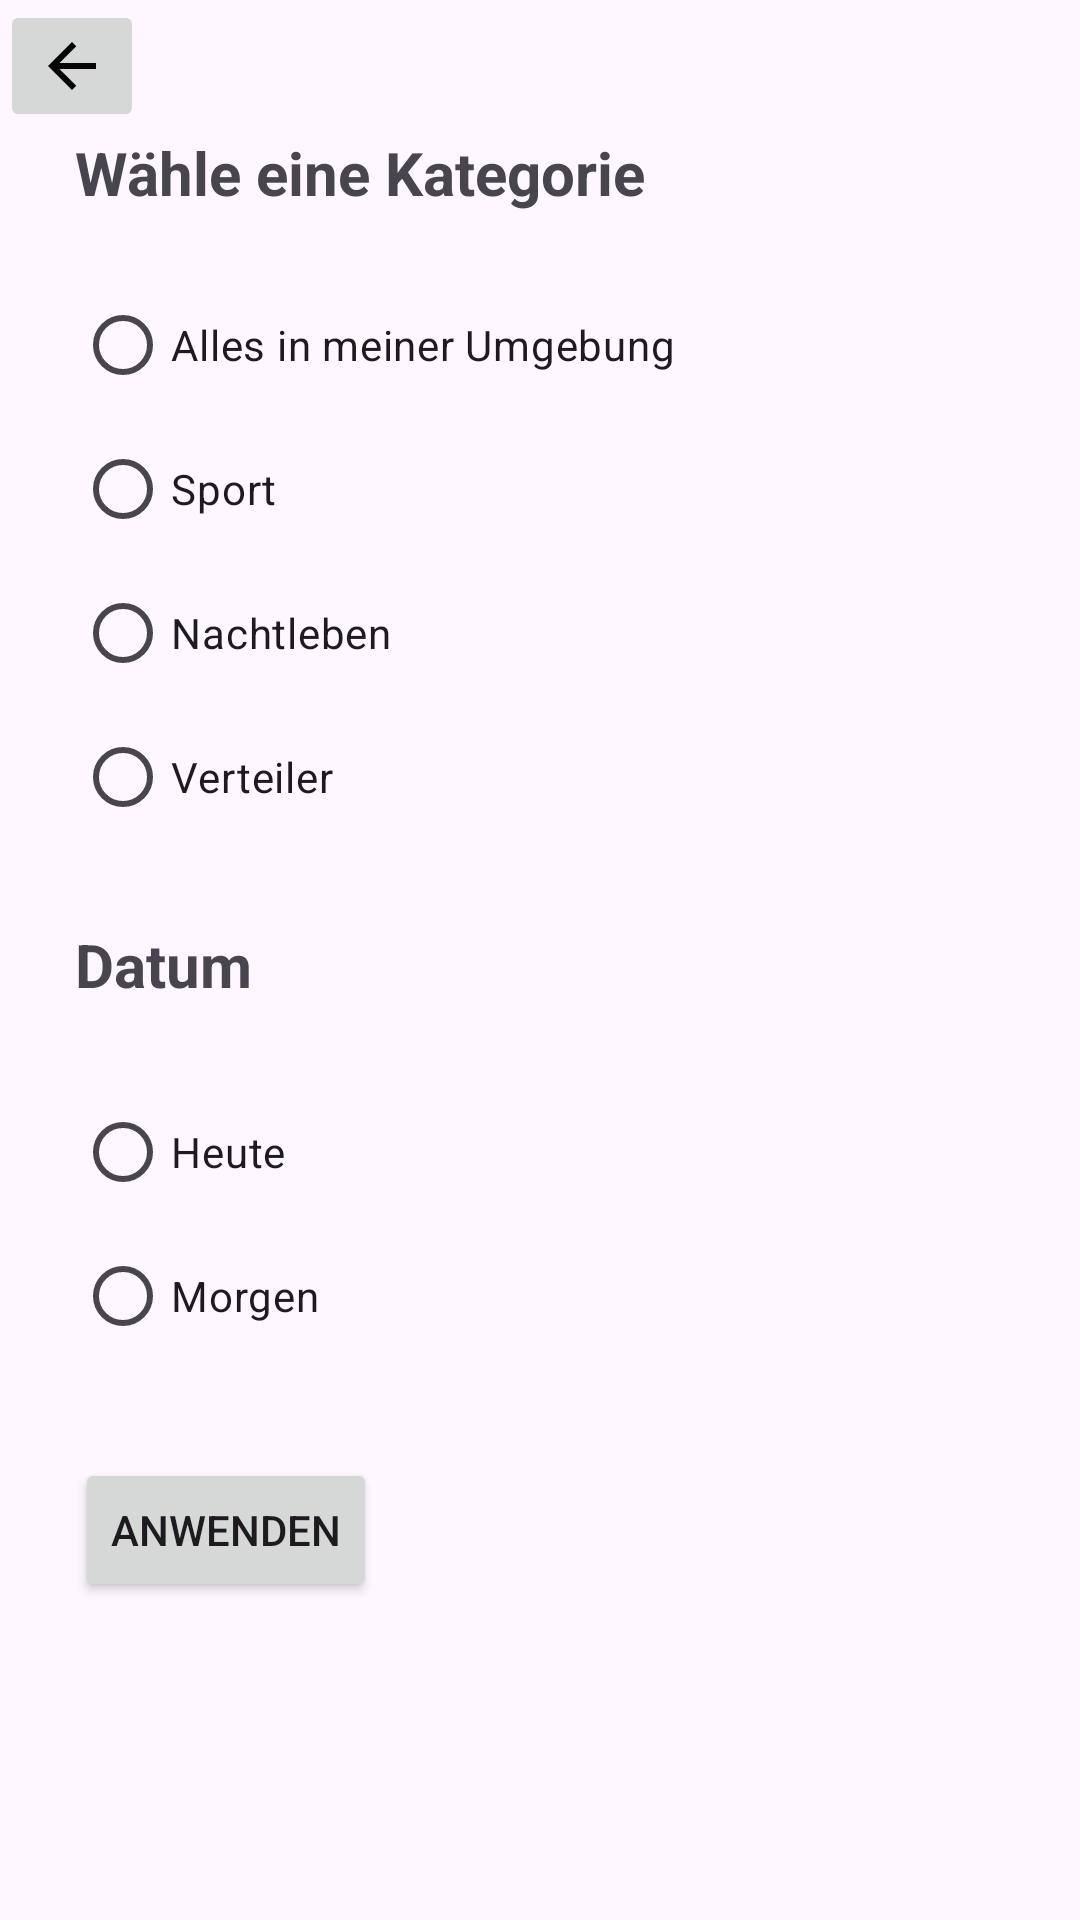

Where icons sit on this 1080×1920 app screen, as (x1, y1, x2, y2):
back: (12, 18, 132, 114)
